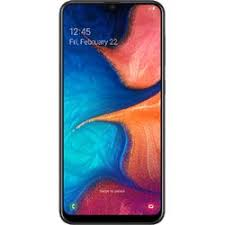samsung: (56, 1, 166, 225)
